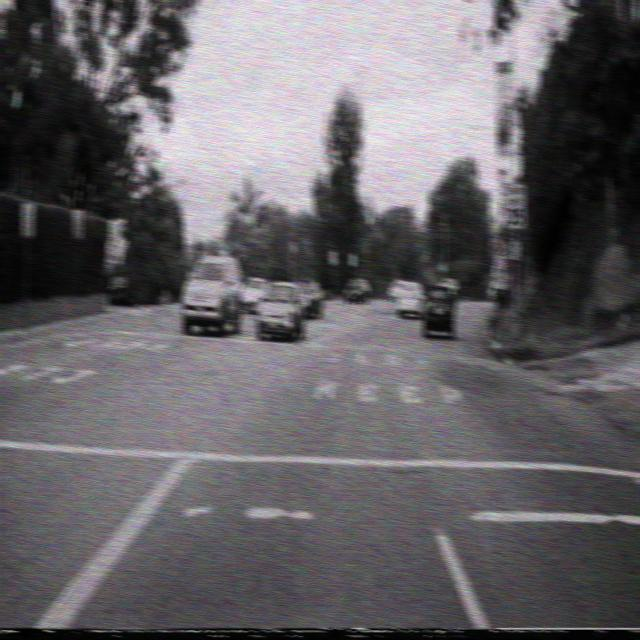speedLimit35: (504, 180, 526, 230)
